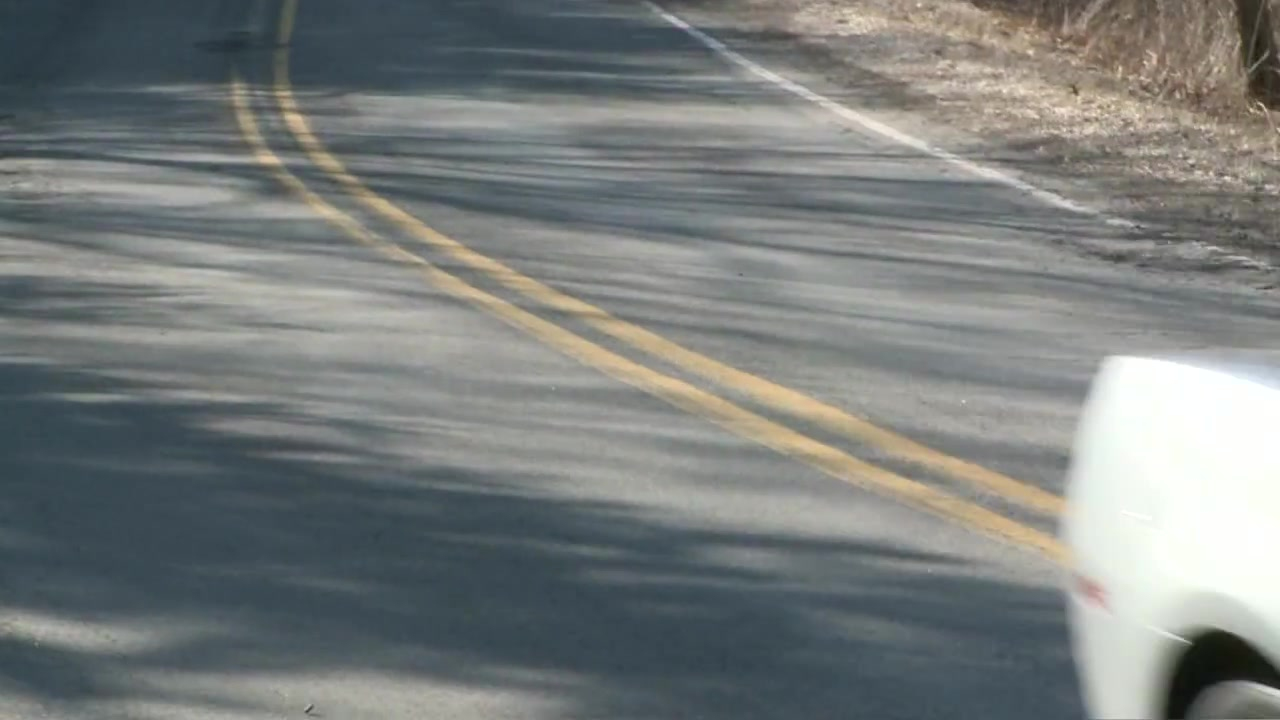car: (1068, 340, 1280, 720)
